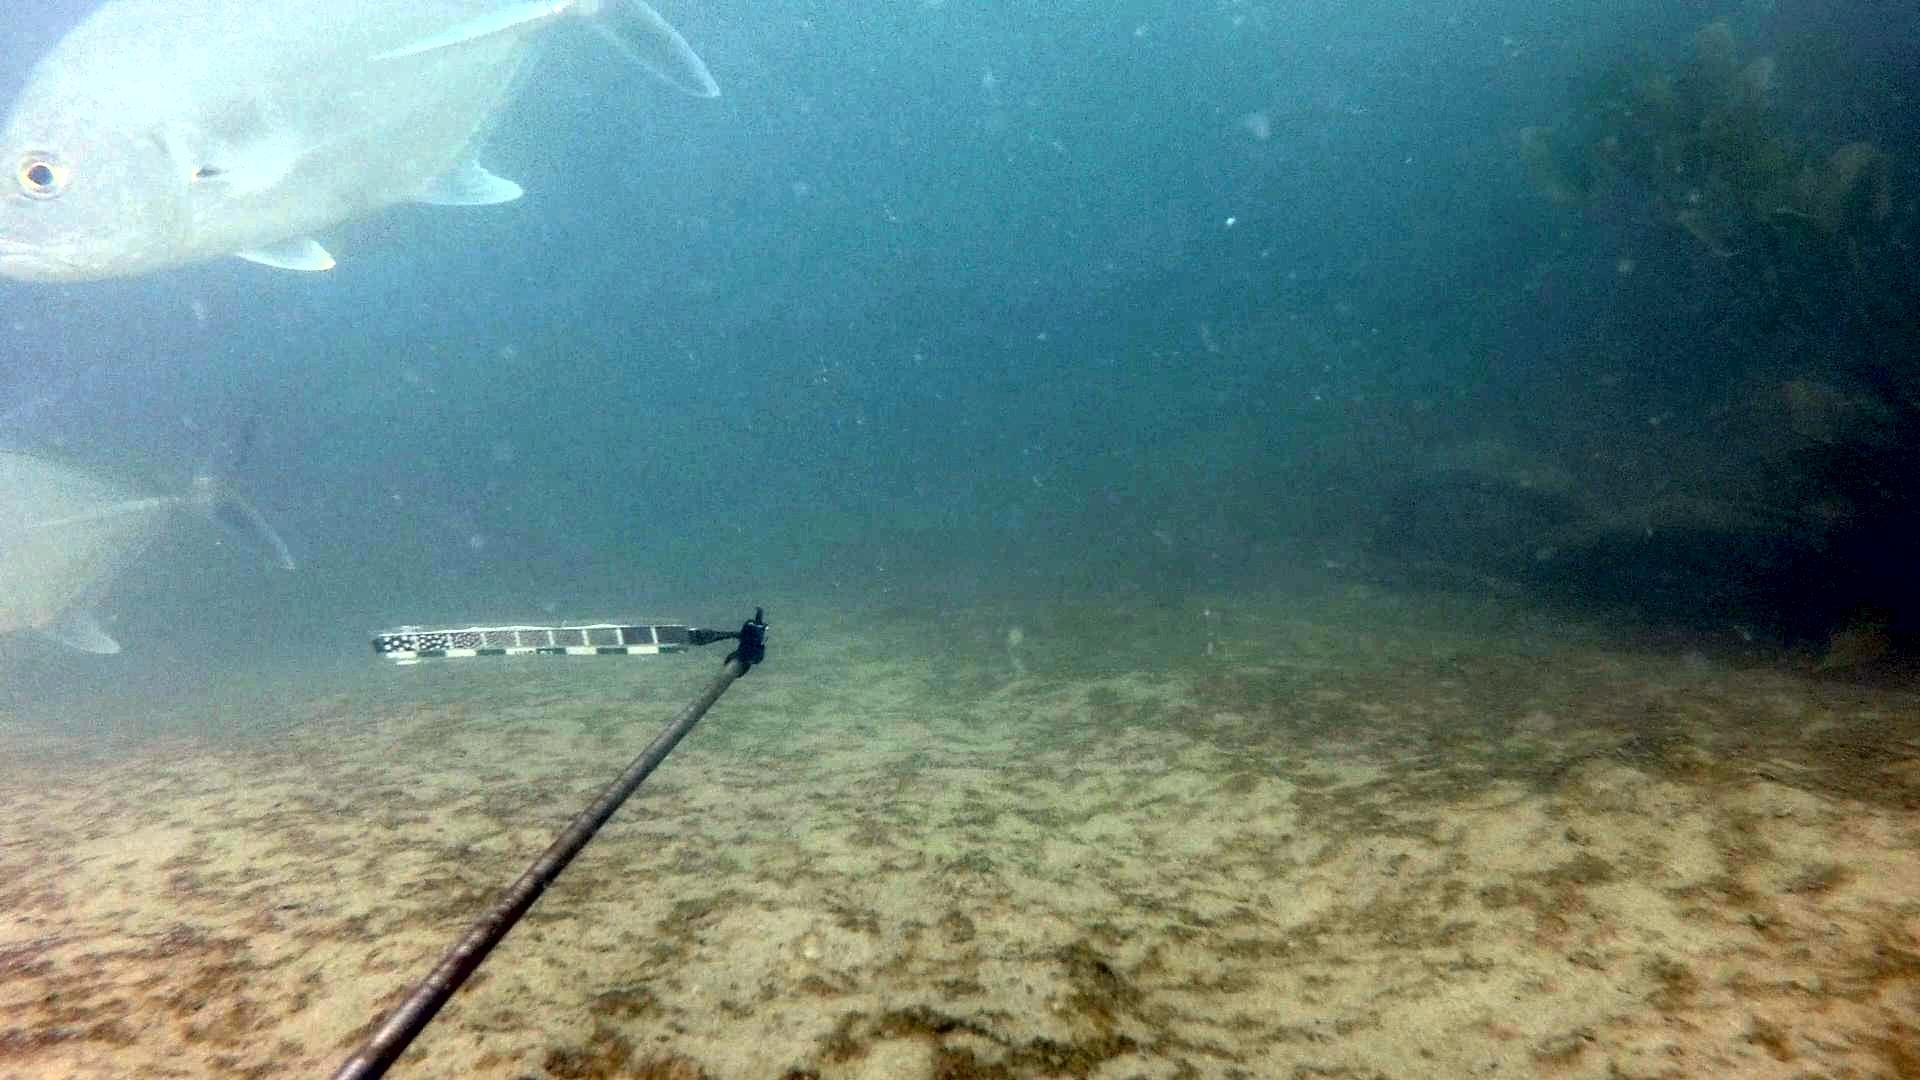caranx: (0, 0, 745, 284), (3, 398, 306, 675)
